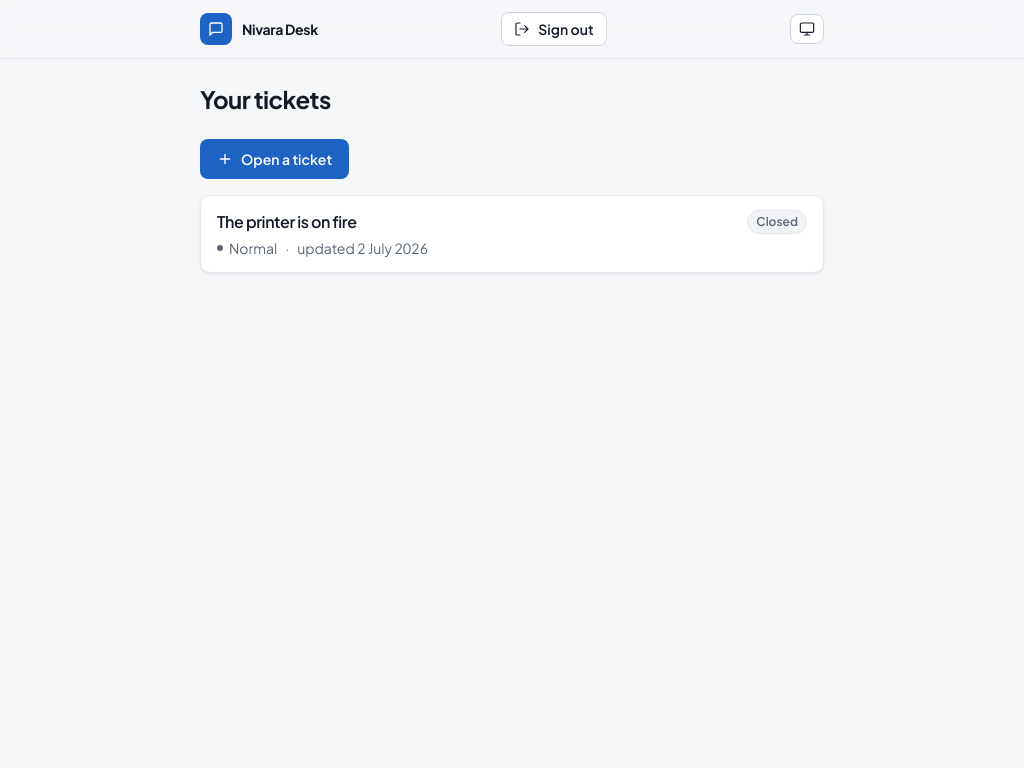
replying to a Ticket › does not offer a resend when the reply landed but could not be followed
Click the button "The printer is on fire Normal · updated 2 July 2026 Closed" at [287, 222], box x1=201 y1=196 x2=823 y2=272
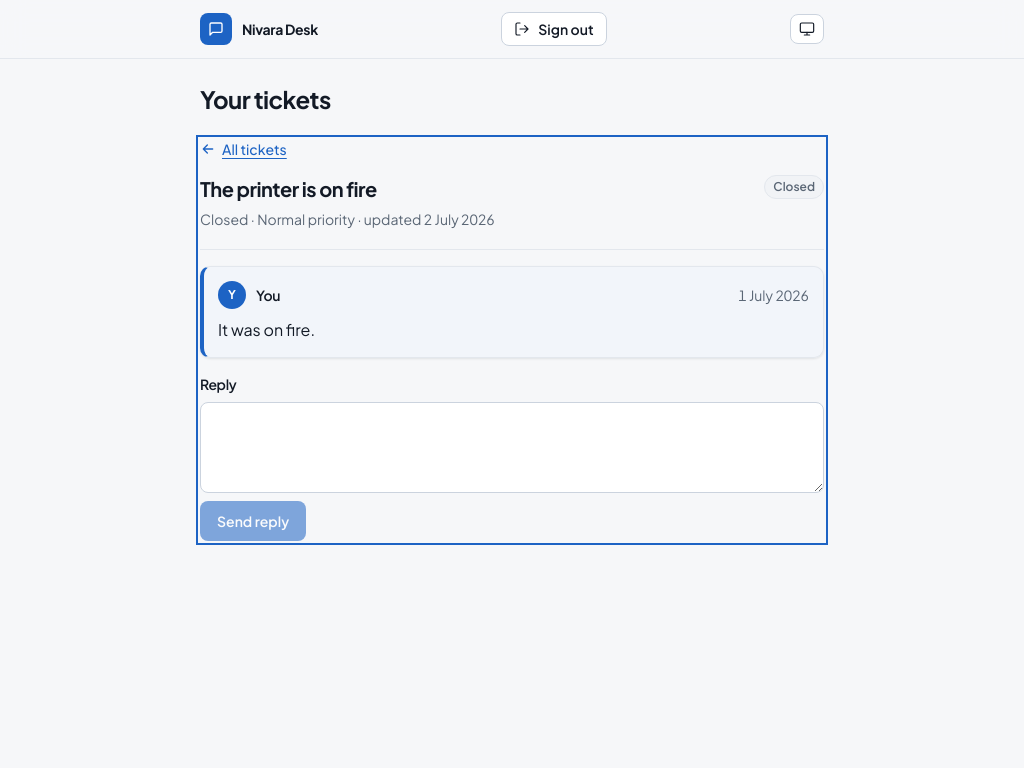
Expected: the list named "conversation" is shown, x1=200 y1=266 x2=824 y2=358
Type "It is on fire again." into the text box labelled "Reply" at [512, 448], box x1=200 y1=402 x2=824 y2=493
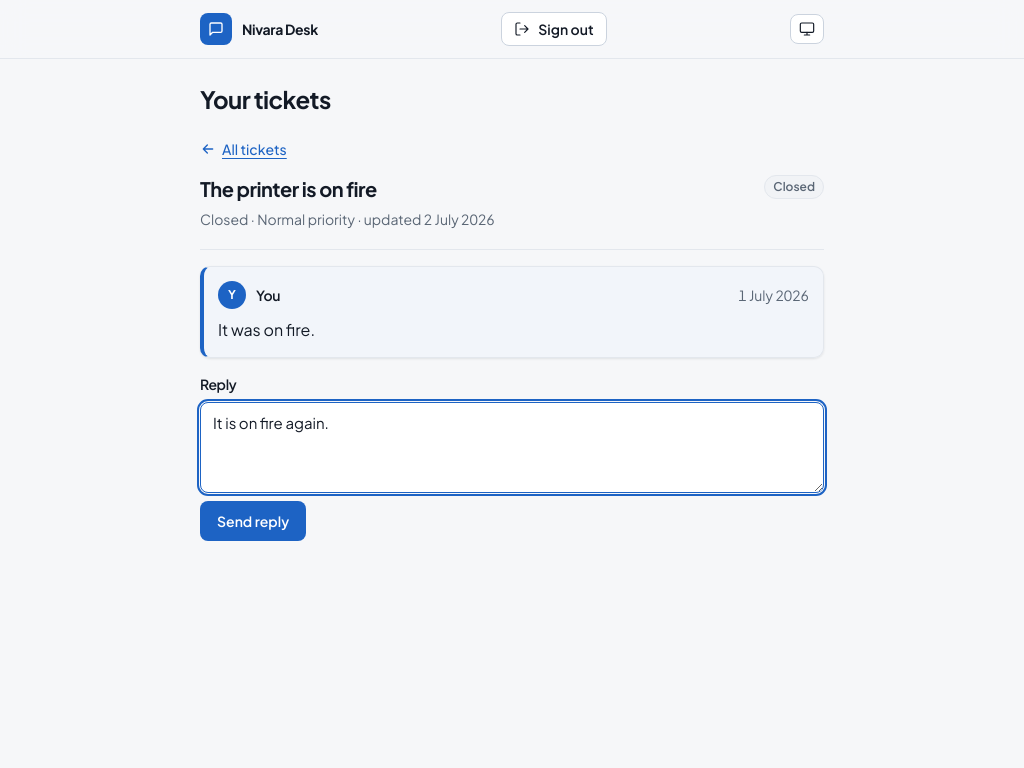
Click the button "Send reply" at [253, 521], box x1=200 y1=501 x2=306 y2=541
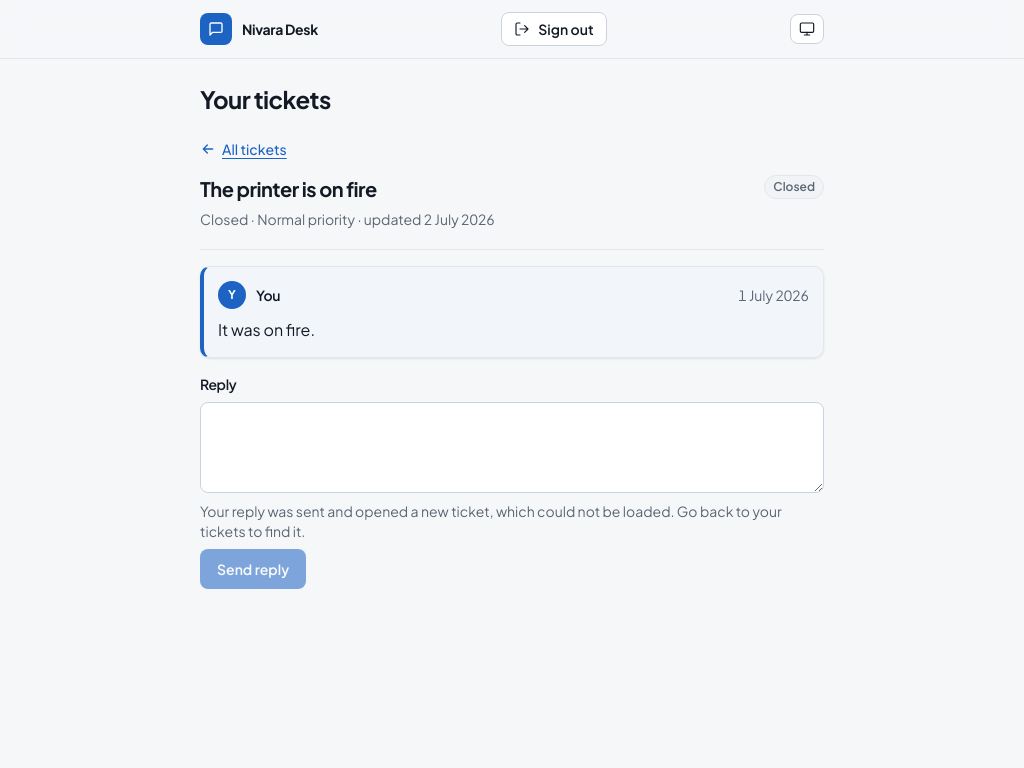
Expected: the text "was sent and opened a new ticket" is shown, x1=200 y1=502 x2=782 y2=540
Expected: the text box labelled "Reply" is empty, x1=200 y1=402 x2=824 y2=493
